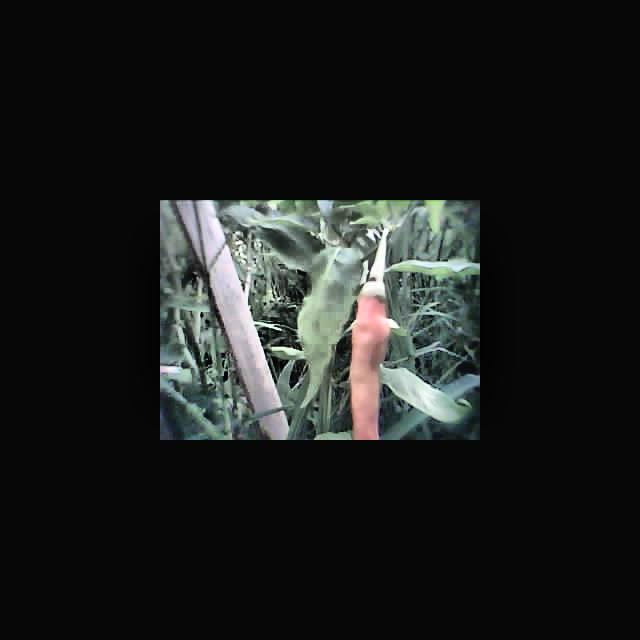Cabai: (344, 286, 399, 440)
